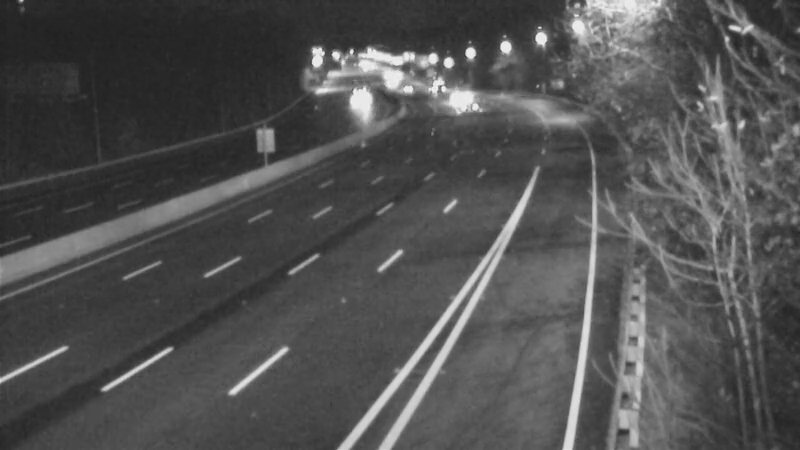vehicle: (411, 59, 461, 109), (385, 65, 435, 115), (432, 71, 482, 121), (445, 88, 495, 138), (329, 77, 379, 127)
